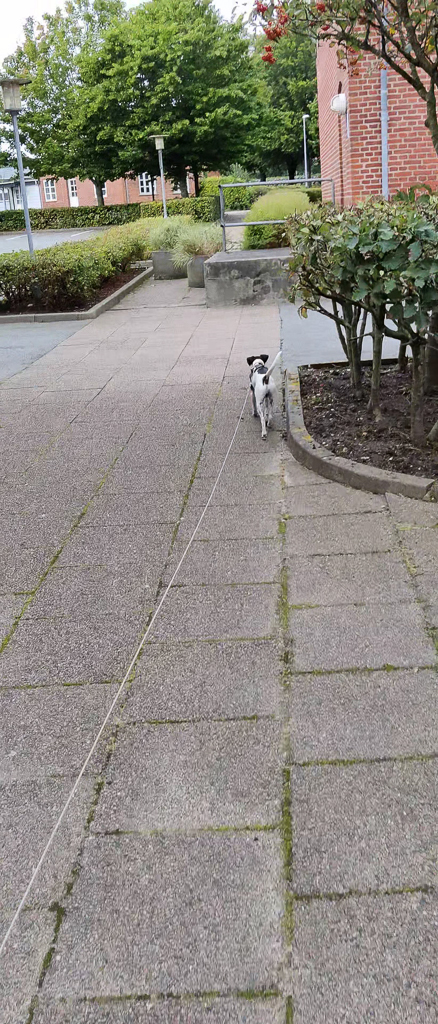Dog: (238, 345, 292, 445)
